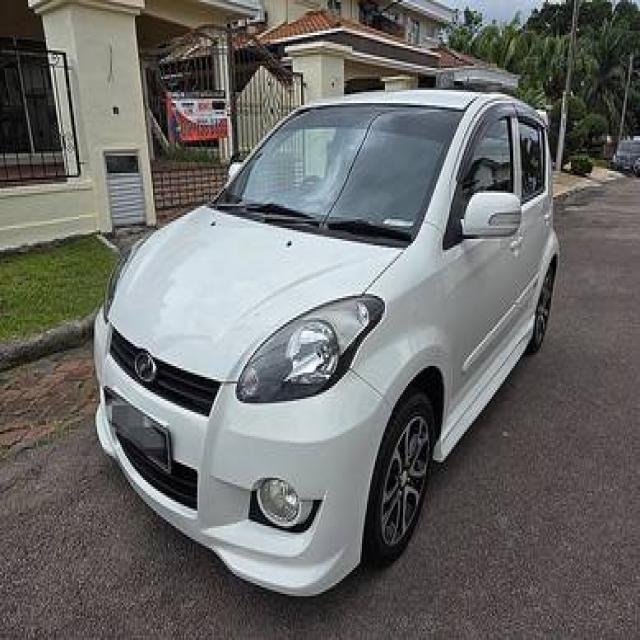PeroduaMyvi: (90, 84, 562, 598)
